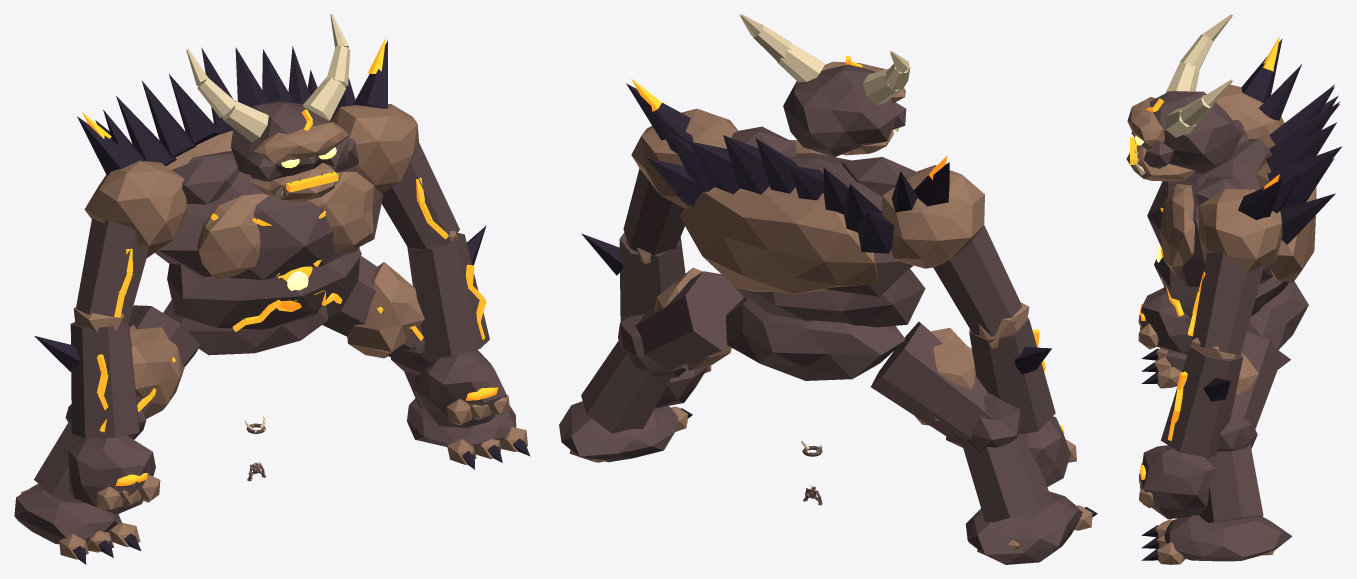
Rendered from colossus.glb.
3 views of the same model, side by side, from view 1: azimuth 30°, elevation 25°; view 2: azimuth 150°, elevation 25°; view 3: azimuth 270°, elevation 25° (orthographic). The views are drawn at different scales.
Parts seen in each view (by area): view 1: colossus_body_mesh, colossus_arm_r_mesh, colossus_arm_l_mesh, colossus_leg_r_mesh, colossus_head_mesh, colossus_leg_l_mesh; view 2: colossus_body_mesh, colossus_leg_r_mesh, colossus_leg_l_mesh, colossus_arm_r_mesh, colossus_head_mesh, colossus_arm_l_mesh; view 3: colossus_body_mesh, colossus_arm_l_mesh, colossus_leg_l_mesh, colossus_head_mesh, colossus_arm_r_mesh, colossus_leg_r_mesh.
Part boxes in pixels (x1,y1,x2,y2): colossus_body_mesh: (77,37,418,355); colossus_arm_r_mesh: (34,218,160,514); colossus_arm_l_mesh: (381,141,509,427); colossus_leg_r_mesh: (14,305,200,564); colossus_head_mesh: (186,14,350,202); colossus_leg_l_mesh: (322,256,530,469); colossus_body_mesh: (626,78,984,380); colossus_leg_r_mesh: (871,321,1097,564); colossus_leg_l_mesh: (559,267,743,462); colossus_arm_r_mesh: (933,225,1076,486); colossus_head_mesh: (739,14,910,157); colossus_arm_l_mesh: (581,168,711,408); colossus_body_mesh: (1147,36,1342,350); colossus_arm_l_mesh: (1139,251,1264,519); colossus_leg_l_mesh: (1141,331,1292,564); colossus_head_mesh: (1126,14,1242,181); colossus_arm_r_mesh: (1138,286,1192,354); colossus_leg_r_mesh: (1141,348,1290,388).
Bounding box in the file's own units: 20.98 × 18.79 × 8.8.
